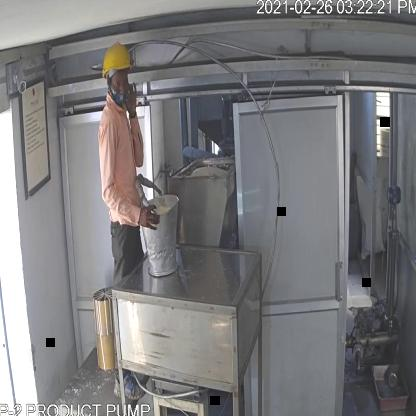helmet: (98, 40, 138, 85)
